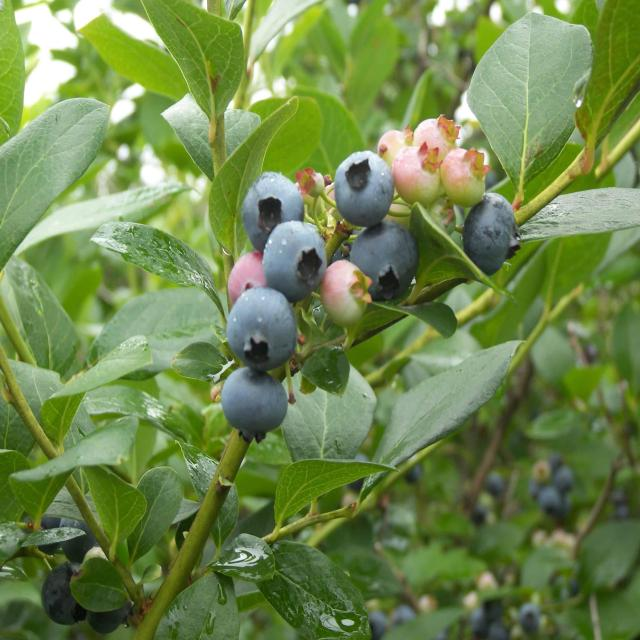BlueBerry - v1: (342, 213, 426, 312), (220, 284, 302, 373), (257, 212, 331, 306), (215, 361, 294, 446), (234, 167, 311, 247), (459, 186, 523, 275), (312, 250, 381, 332), (332, 142, 394, 226), (214, 240, 277, 316), (388, 140, 449, 209), (436, 138, 490, 210), (409, 108, 465, 166), (376, 120, 422, 168)
